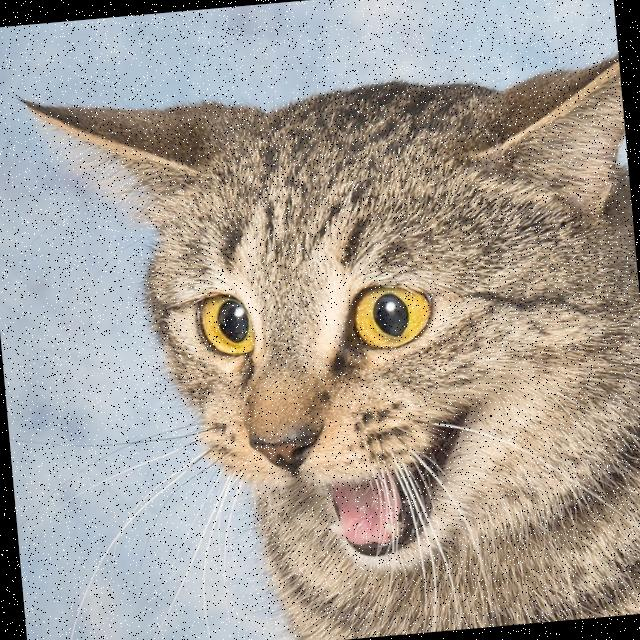Surprised: (159, 235, 534, 607)
